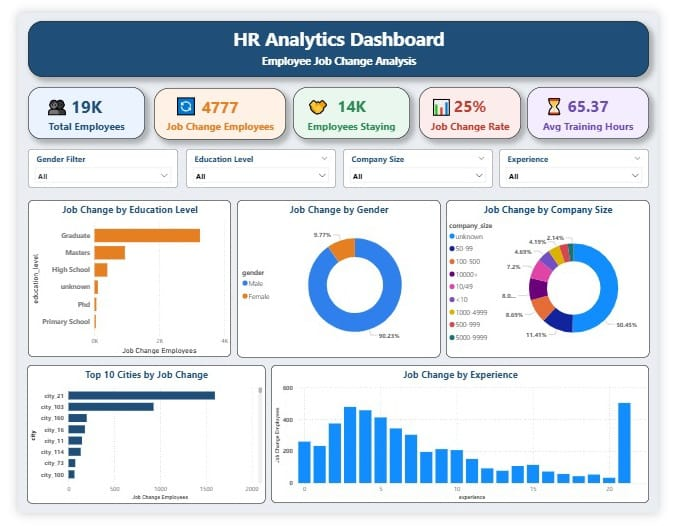

The dashboard page shown, as its layout file describes it:
{"tool":"powerbi","page":{"name":"Page 1","canvas":[1280,1000],"ordinal":0},"visuals":[{"type":"textbox","title":"HR Analytics Dashboard","box":[20,16,1242,112],"z":0},{"type":"card","fields":{"Values":["aug_train.Total Employees"]},"box":[20,148.6,234.3,104.3],"z":1000},{"type":"textbox","box":[50,155.7,52.9,55.7],"z":2000},{"type":"card","fields":{"Values":["aug_train.Job Change Employees"]},"box":[271.4,150,264.3,102.9],"z":3000},{"type":"textbox","box":[308.6,155.7,54.3,55.7],"z":4000},{"type":"card","fields":{"Values":["aug_train.Employees Staying"]},"box":[550,148.6,234.3,104.3],"z":5000},{"type":"textbox","box":[571.4,157.1,55.7,58.6],"z":6000},{"type":"card","fields":{"Values":["aug_train.Job Change Rate"]},"box":[801.4,148.6,204.3,104.3],"z":7000},{"type":"textbox","box":[820,157.1,50,55.7],"z":8000},{"type":"card","fields":{"Values":["aug_train.Average Training Hours"]},"box":[1017.1,148.6,244.3,104.3],"z":9000},{"type":"textbox","box":[1050,155.7,48.6,58.6],"z":10000},{"type":"slicer","fields":{"Values":["aug_train.gender"]},"box":[19.9,271,300,78],"z":11000},{"type":"slicer","fields":{"Values":["aug_train.education_level"]},"box":[336,272,300,78],"z":12000},{"type":"slicer","fields":{"Values":["aug_train.company_size"]},"box":[650,272,300,78],"z":13000},{"type":"slicer","fields":{"Values":["aug_train.experience"]},"box":[962,272,300,78],"z":14000},{"type":"clusteredBarChart","title":"Job Change by Education Level","fields":{"Category":["aug_train.education_level"],"Y":["aug_train.Job Change Employees"]},"box":[20,374,406,314],"z":15000},{"type":"clusteredColumnChart","title":"Job Change by Experience","fields":{"Category":["aug_train.experience"],"Y":["aug_train.Job Change Employees"]},"box":[506,704,756,276],"z":16000},{"type":"donutChart","title":"Job Change by Company Size","fields":{"Category":["aug_train.company_size"],"Y":["aug_train.Job Change Employees"]},"box":[855,373.3,406.7,315],"z":17000},{"type":"barChart","title":"Top 10 Cities by Job Change","fields":{"Category":["aug_train.city"],"Y":["aug_train.Job Change Employees"]},"box":[18.3,703.3,476.7,276.7],"z":18000},{"type":"donutChart","title":"Job Change by Gender","fields":{"Category":["aug_train.gender"],"Y":["aug_train.Job Change Employees"]},"box":[438.3,373.3,406.7,315],"z":19000}]}

Visuals, with their boxes in screenshot pixels (x1, y1, x2, y2), scaled from the page's 1280x1000 canvas onto the 680x526 screenshot:
"HR Analytics Dashboard" textbox: 11:8:670:67
card - aug_train.Total Employees: 11:78:135:133
textbox: 27:82:55:111
card - aug_train.Job Change Employees: 144:79:285:133
textbox: 164:82:193:111
card - aug_train.Employees Staying: 292:78:417:133
textbox: 304:83:333:113
card - aug_train.Job Change Rate: 426:78:534:133
textbox: 436:83:462:112
card - aug_train.Average Training Hours: 540:78:670:133
textbox: 558:82:584:113
slicer - aug_train.gender: 11:143:170:184
slicer - aug_train.education_level: 178:143:338:184
slicer - aug_train.company_size: 345:143:505:184
slicer - aug_train.experience: 511:143:670:184
"Job Change by Education Level" clusteredBarChart: 11:197:226:362
"Job Change by Experience" clusteredColumnChart: 269:370:670:515
"Job Change by Company Size" donutChart: 454:196:670:362
"Top 10 Cities by Job Change" barChart: 10:370:263:515
"Job Change by Gender" donutChart: 233:196:449:362
